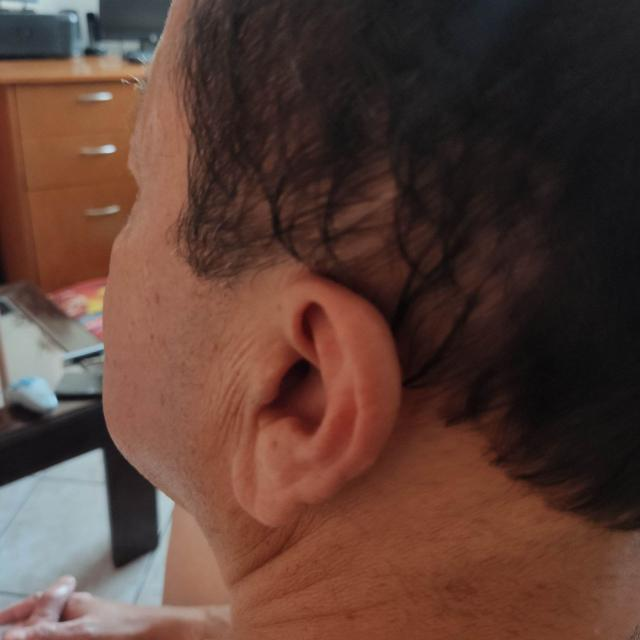ear: (232, 275, 400, 525)
